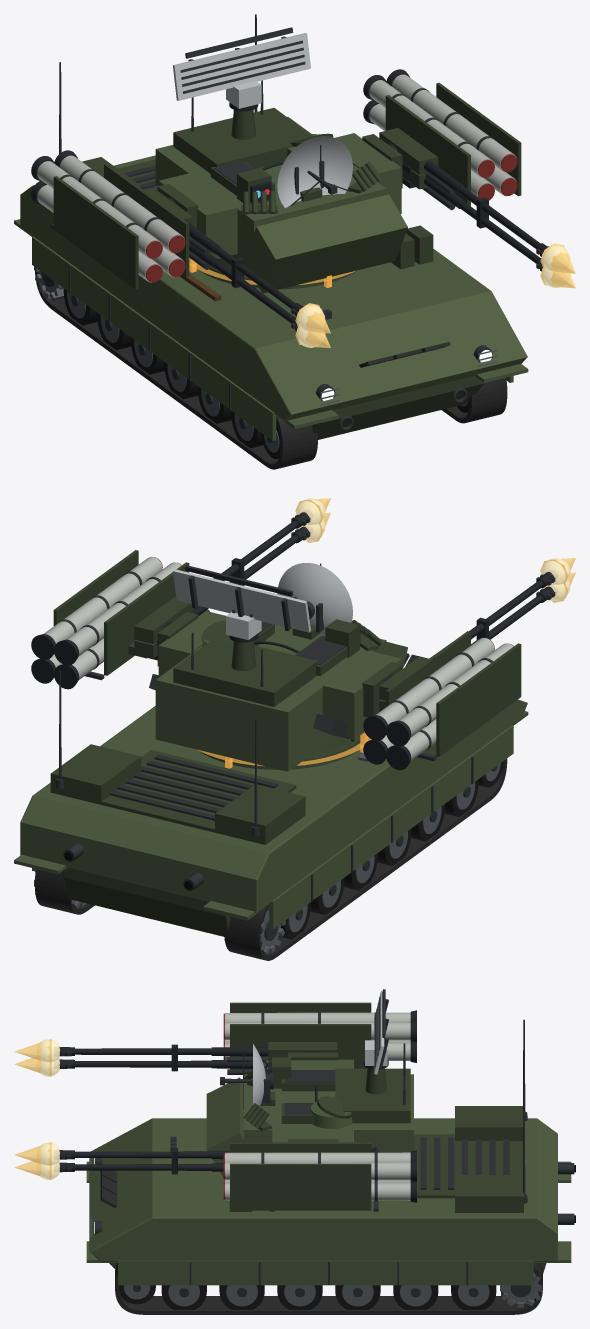
The model's file is spaa.glb.
3 views of the same model, one above another, from view 1: azimuth 30°, elevation 25°; view 2: azimuth 150°, elevation 25°; view 3: azimuth 270°, elevation 25° (orthographic). The views are drawn at different scales.
Visible parts, largest first — view 1: part-0001, part-0169, part-0127, part-0170, part-0203, part-0168, part-0055, part-0304, part-0000, part-0318, part-0268, part-0171 (+23 smaller); view 2: part-0001, part-0168, part-0127, part-0170, part-0000, part-0203, part-0055, part-0153, part-0304, part-0143, part-0124, part-0171 (+30 smaller); view 3: part-0001, part-0108, part-0269, part-0002, part-0168, part-0170, part-0204, part-0153, part-0124, part-0169, part-0143, part-0286 (+36 smaller).
Boxes of the visible parts, x1,y1,x2,y2 form: part-0001: (20, 155, 527, 421); part-0169: (244, 194, 407, 293); part-0127: (32, 236, 276, 440); part-0170: (173, 108, 313, 173); part-0203: (53, 176, 138, 289); part-0168: (155, 117, 386, 270); part-0055: (35, 271, 317, 469); part-0304: (173, 33, 310, 100); part-0000: (312, 375, 483, 439); part-0318: (277, 136, 352, 208); part-0268: (385, 95, 470, 206); part-0171: (158, 173, 237, 258); part-0001: (20, 699, 527, 913); part-0168: (155, 624, 386, 771); part-0127: (269, 725, 513, 929); part-0170: (173, 639, 317, 706); part-0000: (63, 867, 229, 936); part-0203: (436, 643, 521, 756); part-0055: (224, 758, 507, 960); part-0153: (85, 750, 296, 835); part-0304: (173, 569, 310, 632); part-0143: (215, 784, 305, 844); part-0124: (50, 744, 141, 804); part-0171: (322, 651, 401, 739); part-0001: (89, 1118, 557, 1261); part-0108: (118, 1260, 533, 1285); part-0269: (230, 1163, 371, 1210); part-0002: (115, 1263, 542, 1314); part-0168: (244, 1074, 413, 1152); part-0170: (335, 1068, 410, 1123); part-0204: (230, 1024, 371, 1069); part-0153: (414, 1134, 522, 1198); part-0124: (455, 1175, 523, 1212); part-0169: (206, 1077, 243, 1177); part-0143: (455, 1106, 523, 1140); part-0286: (225, 1152, 410, 1162).
Bounding box in the file's own units: 6.11 × 4.55 × 8.93.
